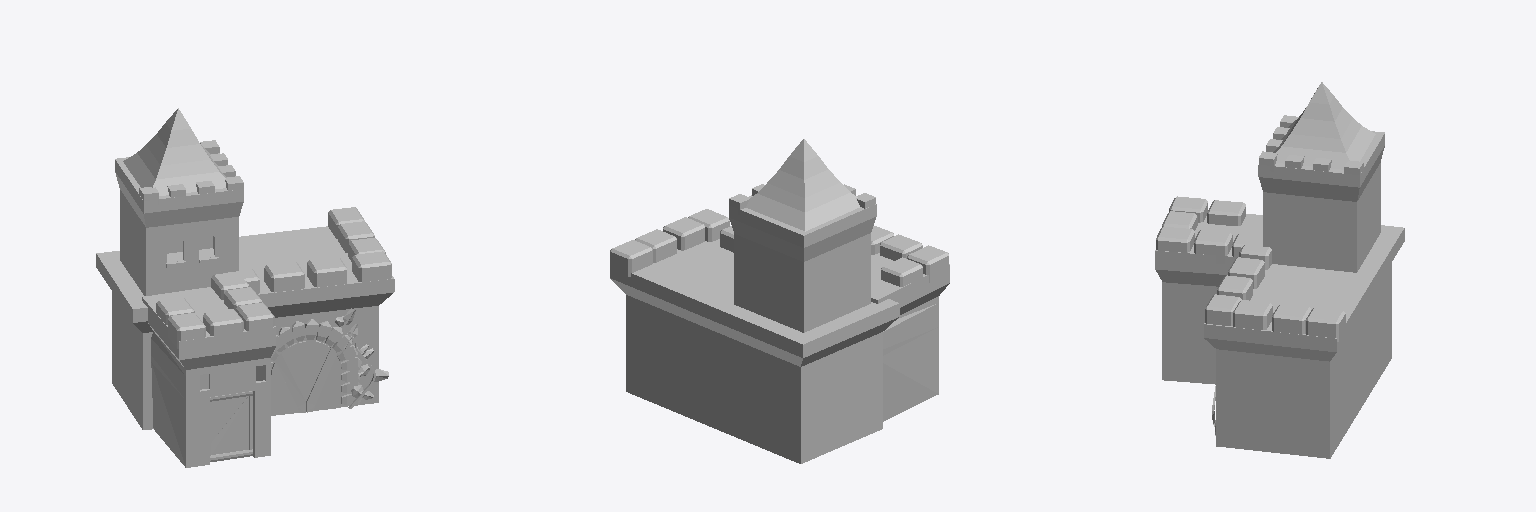
File: Castle.obj
3 renders of one model, left to right at view 1: azimuth 30°, elevation 25°; view 2: azimuth 150°, elevation 25°; view 3: azimuth 270°, elevation 25°, orthographic.
Visible parts, largest first — view 1: W_rfel_3, W_rfel_1, W_rfel_2, Pyramide, Zylinder, W_rfel, W_rfel_41, W_rfel_4, W_rfel_3_Instanz, W_rfel_3_Instanz_1, W_rfel_3_Instanz_9, W_rfel_3_Instanz_8 (+6 smaller); view 2: W_rfel_3, W_rfel_2, W_rfel_1, Pyramide, W_rfel_3_Instanz_3, W_rfel_3_Instanz_9, W_rfel_3_Instanz_2, W_rfel_3_Instanz_12, W_rfel_3_Instanz_4, W_rfel_3_Instanz_8, W_rfel_3_Instanz_1; view 3: W_rfel_3, W_rfel_2, W_rfel_1, Pyramide, W_rfel_3_Instanz_3, W_rfel_3_Instanz_2, W_rfel_3_Instanz_4, W_rfel_3_Instanz_10, W_rfel_3_Instanz_5, W_rfel_3_Instanz_12, W_rfel_3_Instanz_1, W_rfel_4 (+3 smaller).
Part boxes in pixels (x1,y1,x2,y2): W_rfel_3: (96,226,394,429); W_rfel_1: (142,287,275,467); W_rfel_2: (115,153,243,295); Pyramide: (123,108,226,195); Zylinder: (271,340,340,415); W_rfel: (210,391,252,461); W_rfel_41: (275,347,336,412); W_rfel_4: (264,262,304,292); W_rfel_3_Instanz: (307,257,346,287); W_rfel_3_Instanz_1: (352,251,391,281); W_rfel_3_Instanz_9: (168,313,205,348); W_rfel_3_Instanz_8: (203,309,243,341); W_rfel_3: (610,239,899,463); W_rfel_2: (729,195,876,332); W_rfel_1: (871,253,949,421); Pyramide: (746,139,859,231); W_rfel_3_Instanz_3: (610,240,652,276); W_rfel_3_Instanz_9: (907,245,948,282); W_rfel_3_Instanz_2: (663,217,704,250); W_rfel_3_Instanz_12: (881,257,922,286); W_rfel_3_Instanz_4: (635,229,676,262); W_rfel_3_Instanz_8: (880,234,922,260); W_rfel_3_Instanz_1: (688,209,729,241); W_rfel_3: (1204,225,1404,458); W_rfel_2: (1258,131,1384,272); W_rfel_1: (1155,214,1262,384); Pyramide: (1273,82,1375,169); W_rfel_3_Instanz_3: (1306,308,1345,341); W_rfel_3_Instanz_2: (1233,300,1272,329); W_rfel_3_Instanz_4: (1272,304,1310,334); W_rfel_3_Instanz_10: (1194,230,1232,263); W_rfel_3_Instanz_5: (1156,227,1194,252); W_rfel_3_Instanz_12: (1207,200,1245,225); W_rfel_3_Instanz_1: (1205,294,1241,325); W_rfel_4: (1228,257,1264,288).
Size of the model in its own units: 81.54 by 87.91 by 67.65.